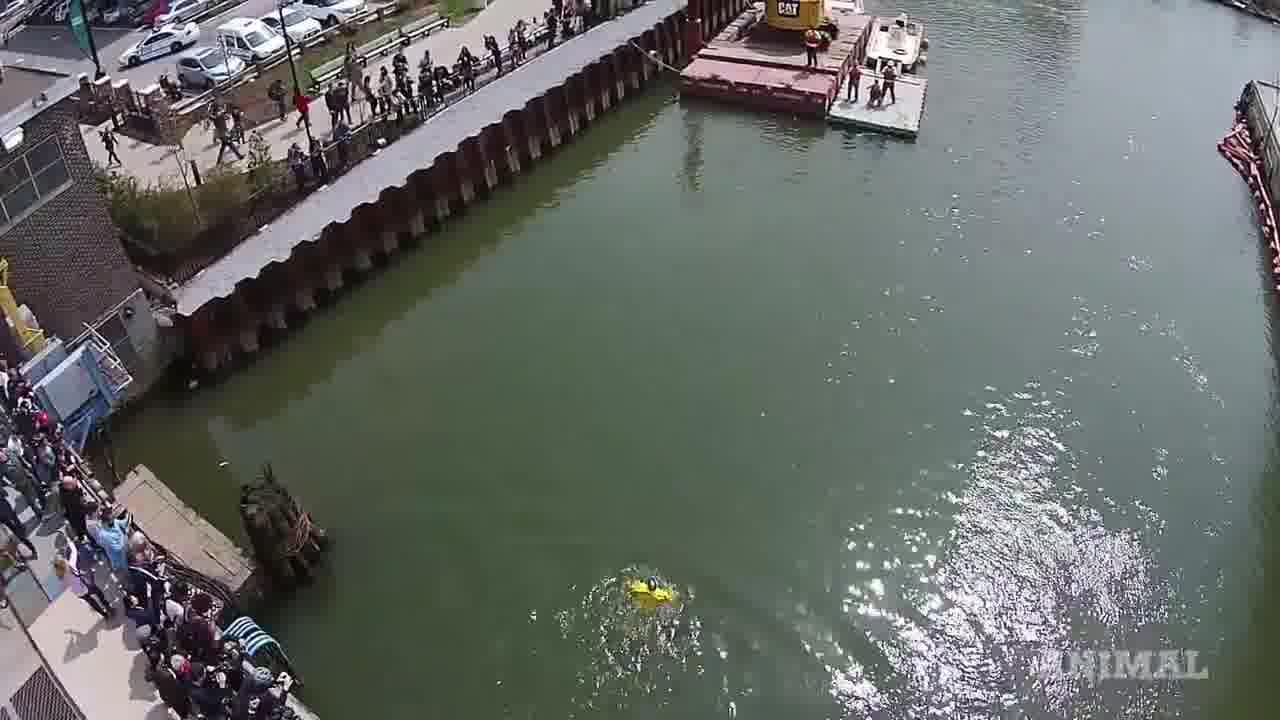swimmer: (609, 562, 717, 609)
